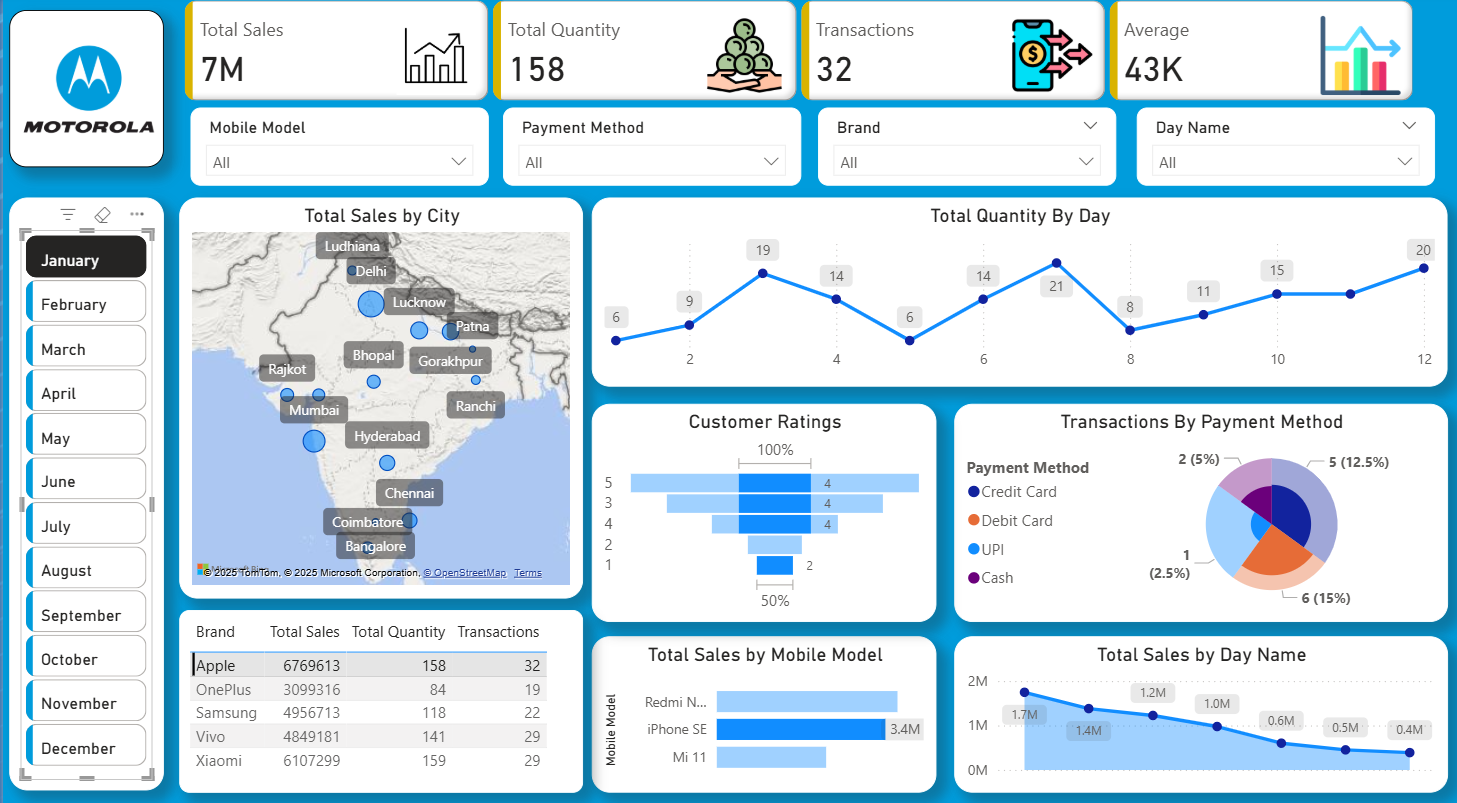

Layout of this report page (visuals, bound fields, positions):
{"tool":"powerbi","page":{"name":"DASHBOARD","canvas":[1280,720],"ordinal":0},"visuals":[{"type":"shape","box":[5.5,13.7,135.8,138.6],"z":0},{"type":"image","box":[9.6,19.2,129,129],"z":1000},{"type":"shape","box":[5.5,178.4,135.8,521.4],"z":2000},{"type":"advancedSlicerVisual","fields":{"Values":["sales_data.Date.Variation.Date Hierarchy.Month"]},"box":[15.1,207.2,116.6,483],"z":3000},{"type":"cardVisual","fields":{"Data":["sales_data.Total_sales1","sales_data.Total_Quantity","sales_data.Transactions","sales_data.Average"]},"box":[155.2,0,1092.1,98.9],"z":4000},{"type":"map","title":"Total Sales by City","fields":{"Category":["sales_data.City"],"Size":["sales_data.Total_sales1"]},"box":[155.1,178.4,355.4,352.7],"z":5000},{"type":"lineChart","title":"Total Quantity By Day","fields":{"Category":["sales_data.Date.Variation.Date Hierarchy.Month","sales_data.Date.Variation.Date Hierarchy.Day"],"Y":["sales_data.Total_Quantity"]},"box":[517.9,178.6,752.8,166.2],"z":6000},{"type":"barChart","title":"Total Sales by Mobile Model","fields":{"Category":["sales_data.Mobile Model"],"Y":["sales_data.Total_sales1"]},"box":[517.9,564.6,303.6,137.4],"z":7000},{"type":"pieChart","title":"Transactions By Payment Method","fields":{"Category":["sales_data.Payment Method"],"Y":["sales_data.Transactions"]},"box":[836.6,359.9,434.1,192.3],"z":8000},{"type":"funnel","title":"Customer Ratings","fields":{"Category":["sales_data.Customer Ratings"],"Y":["CountNonNull(sales_data.Customer Ratings)"]},"box":[517.9,359.9,303.6,192.3],"z":9000},{"type":"areaChart","title":"Total Sales by Day Name","fields":{"Category":["sales_data.Day Name"],"Y":["sales_data.Total_sales1"]},"box":[836.6,564.6,434.1,137.4],"z":10000},{"type":"tableEx","fields":{"Values":["sales_data.Brand","sales_data.Total_sales1","sales_data.Total_Quantity","sales_data.Transactions"]},"box":[155.1,540.7,355.4,160.5],"z":11000},{"type":"slicer","fields":{"Values":["sales_data.Mobile Model"]},"box":[164.8,98.9,262.4,68.7],"z":12000},{"type":"slicer","fields":{"Values":["sales_data.Payment Method"]},"box":[439.6,98.9,262.4,68.7],"z":13000},{"type":"slicer","fields":{"Values":["sales_data.Brand"]},"box":[717.1,98.9,262.4,68.7],"z":14000},{"type":"slicer","fields":{"Values":["sales_data.Day Name"]},"box":[997.3,98.9,262.4,68.7],"z":15000}]}

Visuals, with their boxes in screenshot pixels (x1, y1, x2, y2), scaled from the page's 1280x720 canvas onto the 1457x803 screenshot:
shape: left=6, top=15, right=161, bottom=170
image: left=11, top=21, right=158, bottom=165
shape: left=6, top=199, right=161, bottom=780
advancedSlicerVisual - sales_data.Date.Variation.Date Hierarchy.Month: left=17, top=231, right=150, bottom=770
cardVisual - sales_data.Total_sales1 x sales_data.Total_Quantity: left=177, top=0, right=1420, bottom=110
"Total Sales by City" map: left=177, top=199, right=581, bottom=592
"Total Quantity By Day" lineChart: left=590, top=199, right=1446, bottom=385
"Total Sales by Mobile Model" barChart: left=590, top=630, right=935, bottom=783
"Transactions By Payment Method" pieChart: left=952, top=401, right=1446, bottom=616
"Customer Ratings" funnel: left=590, top=401, right=935, bottom=616
"Total Sales by Day Name" areaChart: left=952, top=630, right=1446, bottom=783
tableEx - sales_data.Brand x sales_data.Total_sales1: left=177, top=603, right=581, bottom=782
slicer - sales_data.Mobile Model: left=188, top=110, right=486, bottom=187
slicer - sales_data.Payment Method: left=500, top=110, right=799, bottom=187
slicer - sales_data.Brand: left=816, top=110, right=1115, bottom=187
slicer - sales_data.Day Name: left=1135, top=110, right=1434, bottom=187
